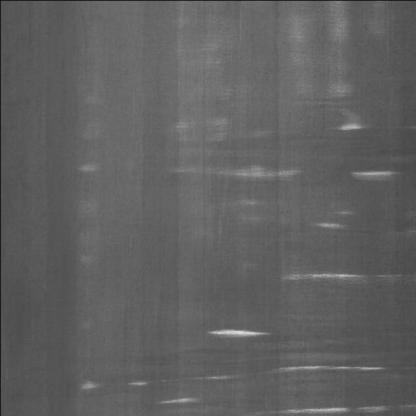waist_folding: (38, 72, 374, 413)
